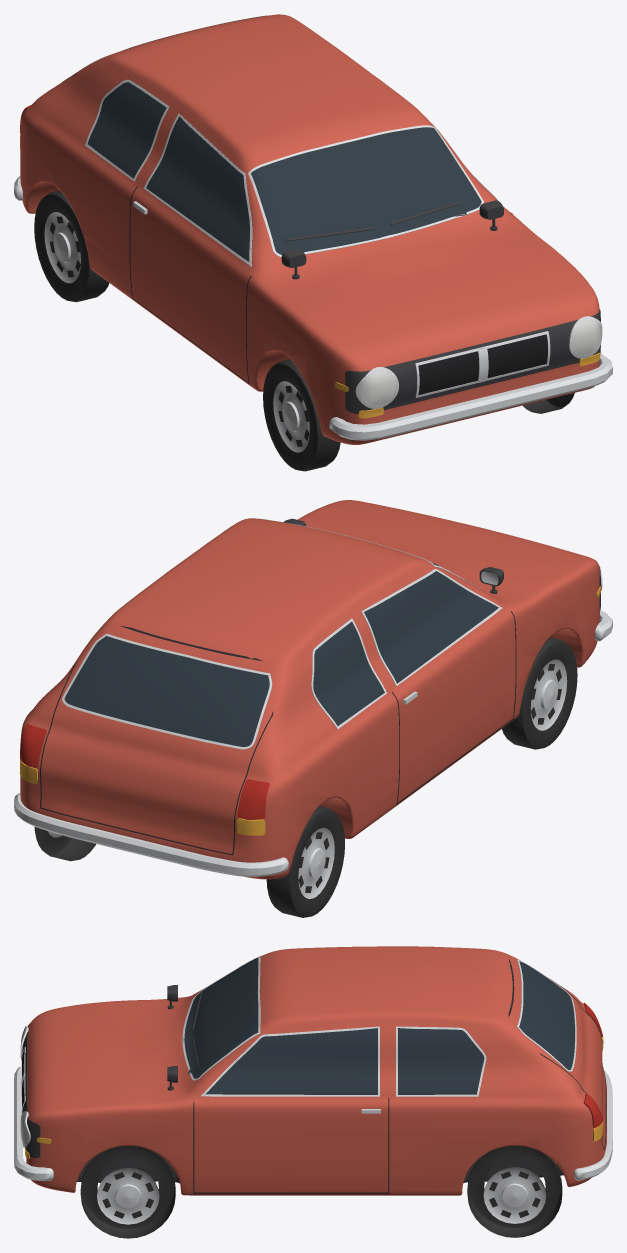
The model's file is civic.glb.
3 views of the same model, one above another, from view 1: azimuth 30°, elevation 25°; view 2: azimuth 150°, elevation 25°; view 3: azimuth 270°, elevation 25° (orthographic). The views are drawn at different scales.
Visible parts, largest first — view 1: paint, glass, trim, wheel_fr, wheel_rr, headlights, mirrors; view 2: paint, glass, trim, wheel_rr, wheel_fr, taillights, wheel_rl; view 3: paint, glass, trim, wheel_fl, wheel_rl, taillights, mirrors.
Part boxes in pixels (left/top/right/bottom): paint: left=20, top=14, right=599, bottom=444; glass: left=87, top=82, right=481, bottom=261; trim: left=14, top=15, right=612, bottom=440; wheel_fr: left=263, top=359, right=340, bottom=471; wheel_rr: left=34, top=190, right=109, bottom=302; headlights: left=360, top=320, right=600, bottom=406; mirrors: left=281, top=200, right=503, bottom=279; paint: left=20, top=500, right=599, bottom=879; glass: left=64, top=562, right=497, bottom=746; trim: left=14, top=518, right=612, bottom=876; wheel_rr: left=266, top=806, right=344, bottom=917; wheel_fr: left=502, top=637, right=577, bottom=749; taillights: left=20, top=724, right=269, bottom=819; wheel_rl: left=34, top=827, right=96, bottom=861; paint: left=26, top=946, right=606, bottom=1195; glass: left=184, top=957, right=574, bottom=1094; trim: left=14, top=956, right=612, bottom=1193; wheel_fl: left=80, top=1146, right=175, bottom=1238; wheel_rl: left=467, top=1146, right=562, bottom=1237; taillights: left=583, top=1003, right=602, bottom=1127; mirrors: left=167, top=985, right=177, bottom=1090.
Bounding box in the file's own units: 1.5 × 1.32 × 3.41.
